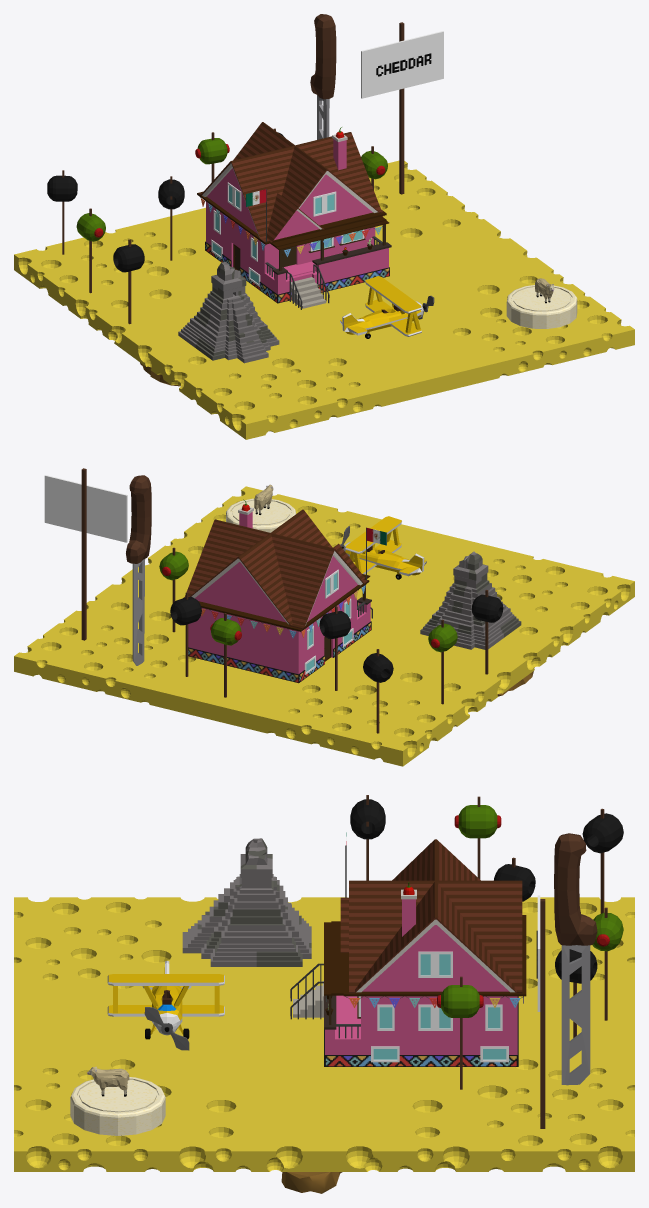
3 renders of one model, top to bottom at view 1: azimuth 30°, elevation 25°; view 2: azimuth 150°, elevation 25°; view 3: azimuth 270°, elevation 25°, orthographic. The views are drawn at different scales.
Parts seen in each view (by area): view 1: Cube.022, Cube.1005, OBJRANDOM_GRAN_JAGUAR, Cube.023, VEHICLES_AIRPLANE, Cylinder.016, Cube.024, Sphere.017, Sphere.016, Sphere.020, Sphere.018, Sphere.022 (+1 smaller); view 2: Cube.022, Cube.1005, Cube.023, OBJRANDOM_GRAN_JAGUAR, Cube.024, VEHICLES_AIRPLANE, Cylinder.016, Sphere.017, Sphere.021, Sphere.016, Sphere.020, Sphere.022 (+2 smaller); view 3: Cube.022, Cube.1005, OBJRANDOM_GRAN_JAGUAR, Cube.024, VEHICLES_AIRPLANE, Cylinder.016, Cube.023, Sphere.016, Sphere.019, Sphere.018, Sphere.017, Sphere.022 (+4 smaller).
Part boxes in pixels (x1=…): Cube.022: x1=14, y1=160, x2=634, y2=439; Cube.1005: x1=197, y1=122, x2=391, y2=309; OBJRANDOM_GRAN_JAGUAR: x1=178, y1=261, x2=279, y2=363; Cube.023: x1=361, y1=22, x2=443, y2=194; VEHICLES_AIRPLANE: x1=340, y1=276, x2=434, y2=338; Cylinder.016: x1=506, y1=285, x2=577, y2=328; Cube.024: x1=310, y1=14, x2=336, y2=139; Sphere.017: x1=113, y1=239, x2=144, y2=324; Sphere.016: x1=47, y1=170, x2=77, y2=254; Sphere.020: x1=158, y1=176, x2=184, y2=260; Sphere.018: x1=76, y1=208, x2=105, y2=293; Sphere.022: x1=195, y1=132, x2=229, y2=181; Cube.022: x1=14, y1=486, x2=634, y2=766; Cube.1005: x1=183, y1=499, x2=386, y2=683; Cube.023: x1=44, y1=468, x2=127, y2=640; OBJRANDOM_GRAN_JAGUAR: x1=420, y1=551, x2=521, y2=649; Cube.024: x1=126, y1=475, x2=151, y2=665; VEHICLES_AIRPLANE: x1=340, y1=516, x2=426, y2=579; Cylinder.016: x1=226, y1=498, x2=295, y2=532; Sphere.017: x1=471, y1=590, x2=503, y2=674; Sphere.021: x1=170, y1=592, x2=201, y2=676; Sphere.016: x1=363, y1=649, x2=393, y2=733; Sphere.020: x1=319, y1=606, x2=350, y2=690; Sphere.022: x1=210, y1=613, x2=241, y2=697; Cube.022: x1=14, y1=897, x2=634, y2=1171; Cube.1005: x1=290, y1=832, x2=526, y2=1066; OBJRANDOM_GRAN_JAGUAR: x1=182, y1=838, x2=311, y2=966; Cube.024: x1=554, y1=833, x2=597, y2=1085; VEHICLES_AIRPLANE: x1=107, y1=961, x2=224, y2=1050; Cylinder.016: x1=70, y1=1077, x2=165, y2=1135; Cube.023: x1=536, y1=895, x2=545, y2=1128; Sphere.016: x1=582, y1=808, x2=623, y2=913; Sphere.019: x1=437, y1=976, x2=483, y2=1089; Sphere.018: x1=454, y1=796, x2=501, y2=879; Sphere.017: x1=350, y1=795, x2=385, y2=880; Sphere.022: x1=592, y1=907, x2=623, y2=1020.
Bounding box in the file's own units: 3928 × 2120 × 4000.
Materials: 74 (5 with a texture image).
